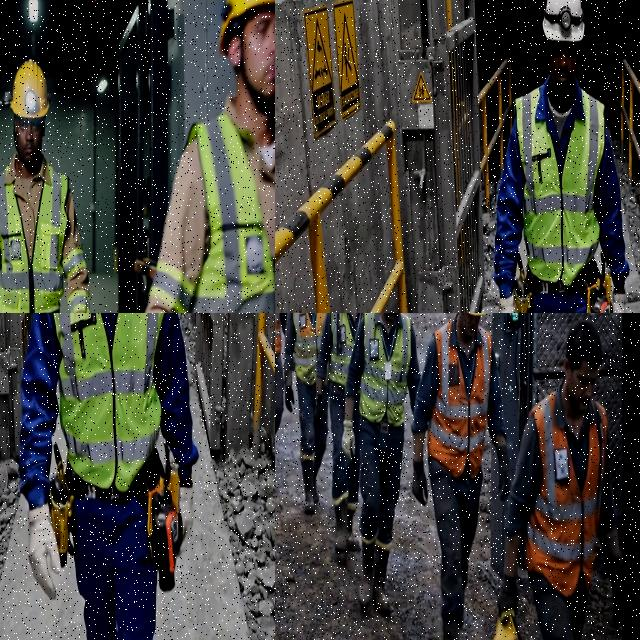Vest: (53, 313, 163, 492), (515, 88, 604, 285), (186, 114, 274, 312), (525, 393, 606, 597), (427, 321, 491, 478), (0, 165, 67, 312), (359, 313, 410, 426), (292, 313, 325, 385), (328, 313, 354, 387), (275, 313, 281, 355)
Worker: (20, 313, 197, 639), (493, 0, 628, 312), (145, 0, 274, 312), (498, 320, 621, 639), (411, 313, 510, 639), (341, 313, 419, 615), (0, 61, 88, 312), (315, 313, 363, 561), (283, 313, 327, 513), (275, 313, 286, 435)
helmet: (219, 0, 274, 54), (0, 60, 49, 118), (543, 0, 583, 42), (493, 610, 520, 639), (467, 313, 486, 315)
